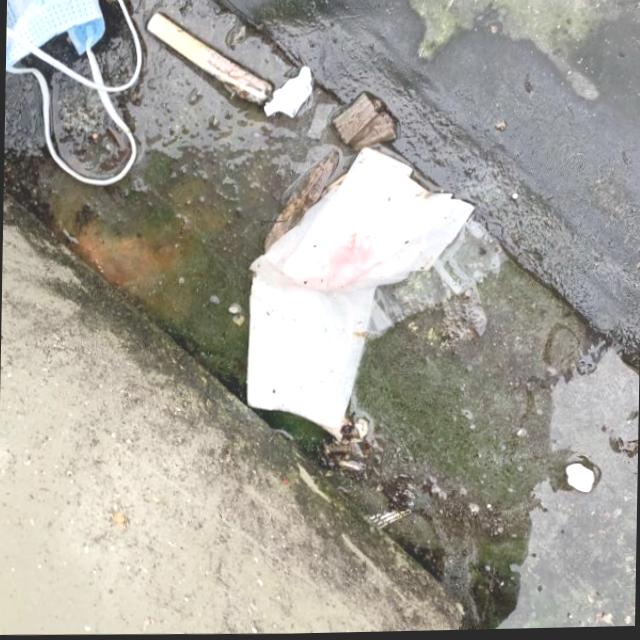Paper: (237, 142, 472, 432)
